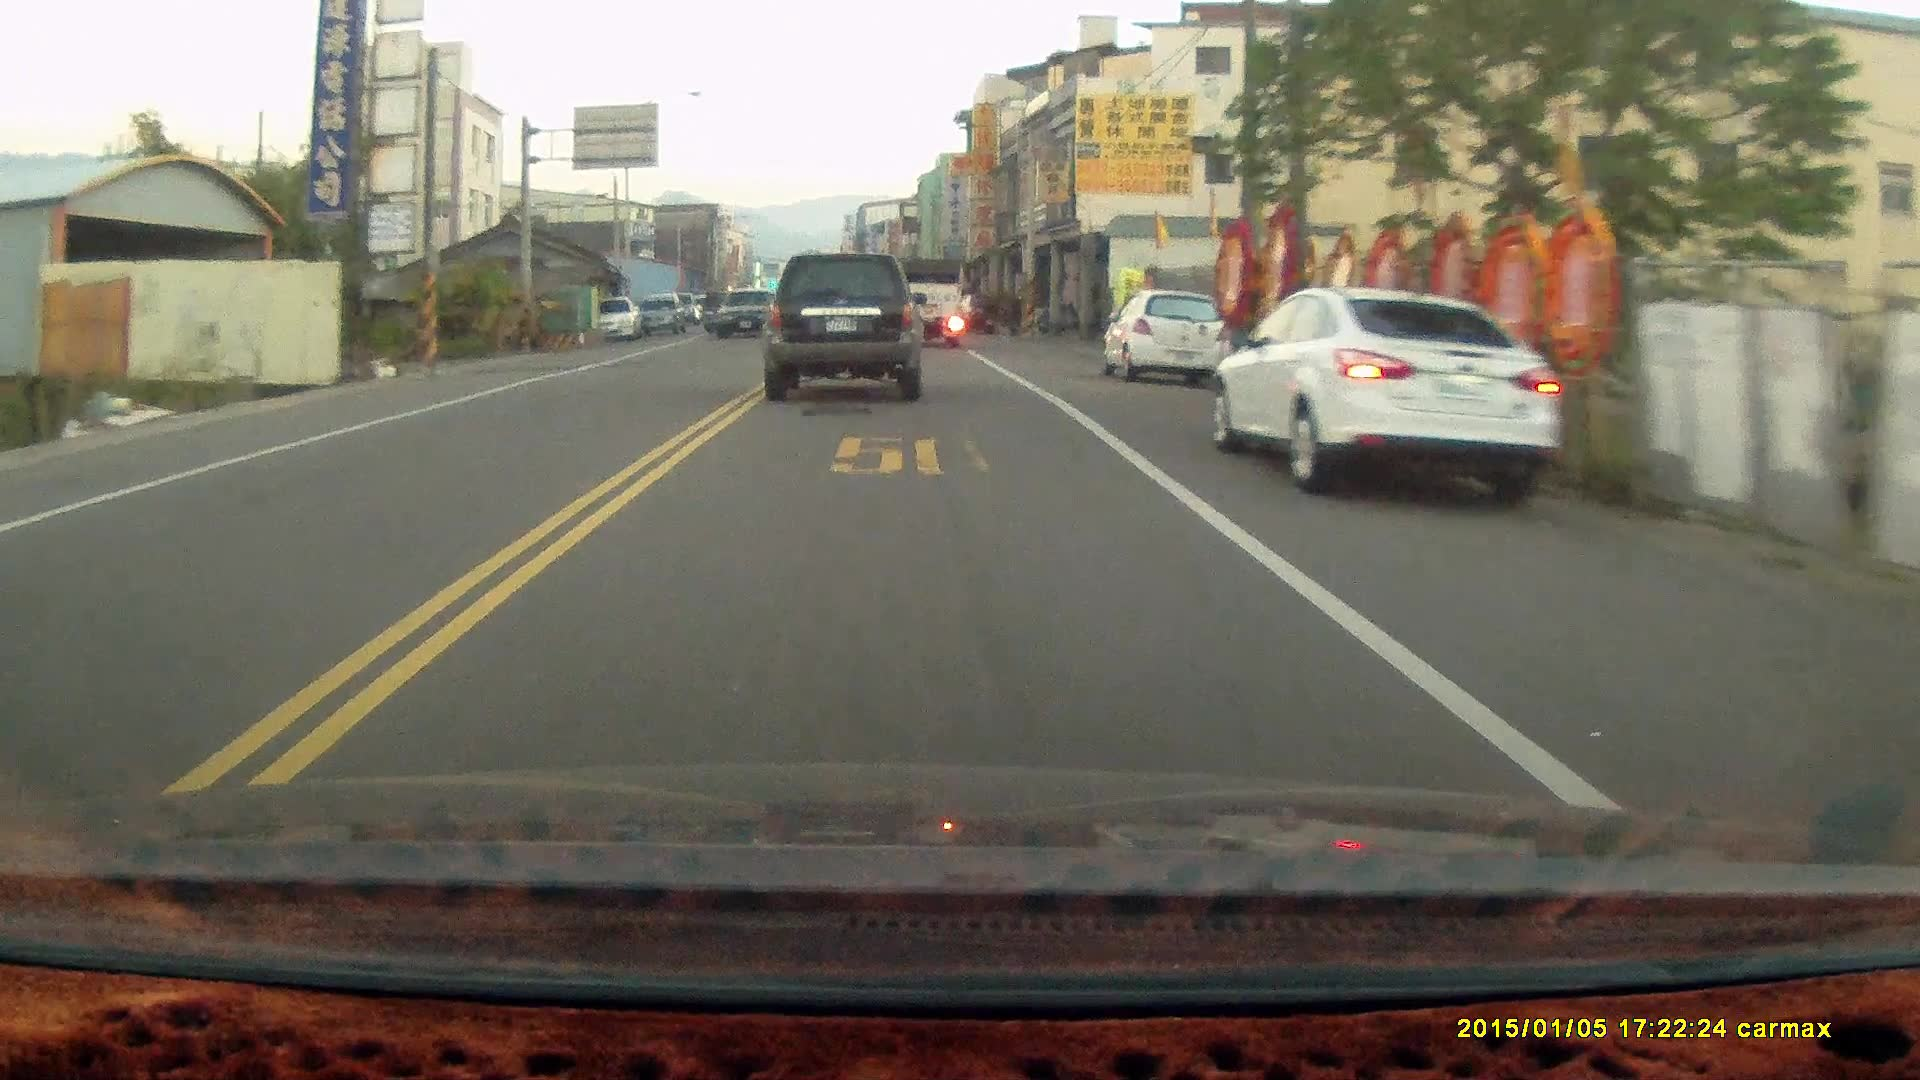vehicle: (1213, 284, 1571, 493), (761, 252, 924, 402), (1101, 287, 1236, 390), (890, 257, 967, 352), (717, 287, 783, 343)
